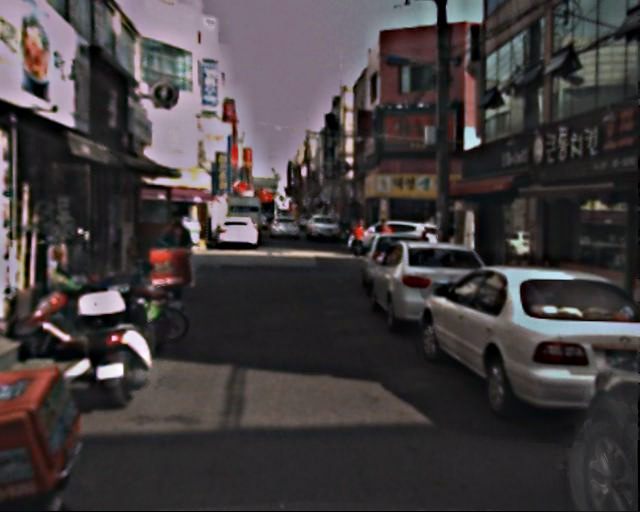person: (157, 212, 201, 312), (351, 216, 369, 261), (375, 218, 393, 262)
